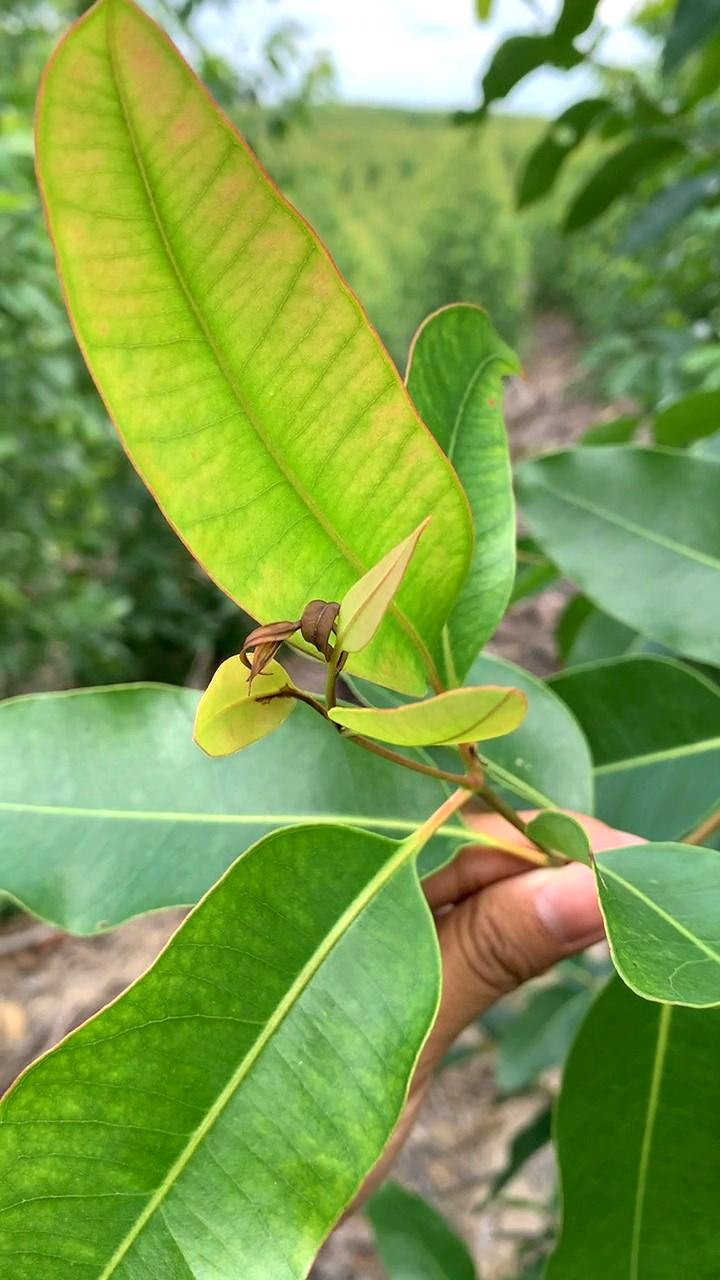Helopeltis-Withered Sprout: (235, 566, 366, 717)
